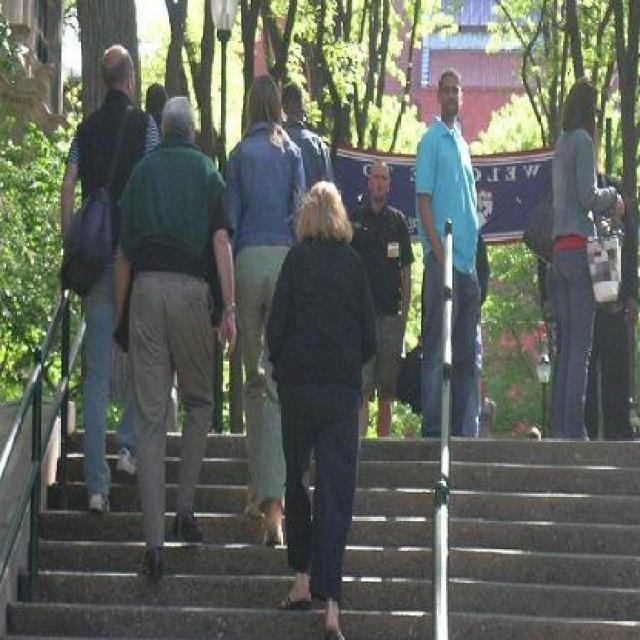obstacle: (123, 96, 239, 578), (270, 182, 368, 638), (57, 46, 146, 516), (225, 70, 302, 528), (535, 74, 628, 440), (420, 66, 486, 443), (360, 149, 418, 442)
